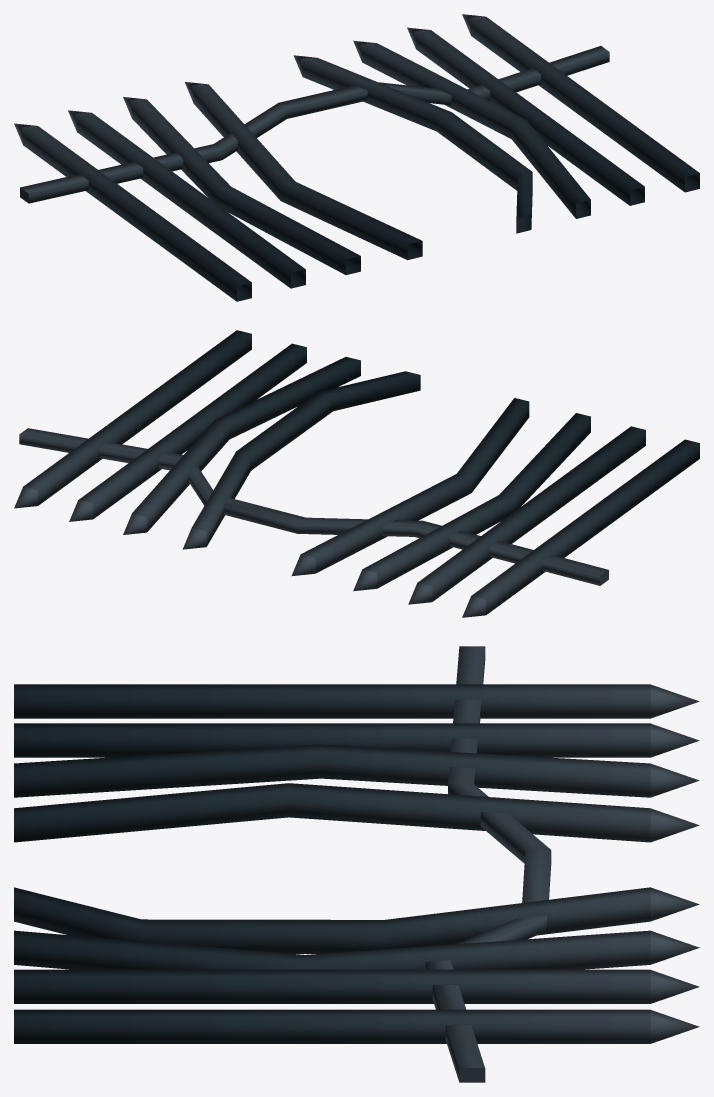
File: Fence 04.FBX
3 views of the same model, one above another, from view 1: azimuth 30°, elevation 25°; view 2: azimuth 150°, elevation 25°; view 3: azimuth 270°, elevation 25° (orthographic). The views are drawn at different scales.
Parts seen in each view (by area): view 1: Fence 04; view 2: Fence 04; view 3: Fence 04.
Boxes of the visible parts, <box> form: Fence 04: <box>14,14,699,301</box>; Fence 04: <box>14,330,699,617</box>; Fence 04: <box>14,646,699,1082</box>.
Size of the model in its own units: 347 by 238 by 8.96.
Materials: 1 (1 with a texture image).
